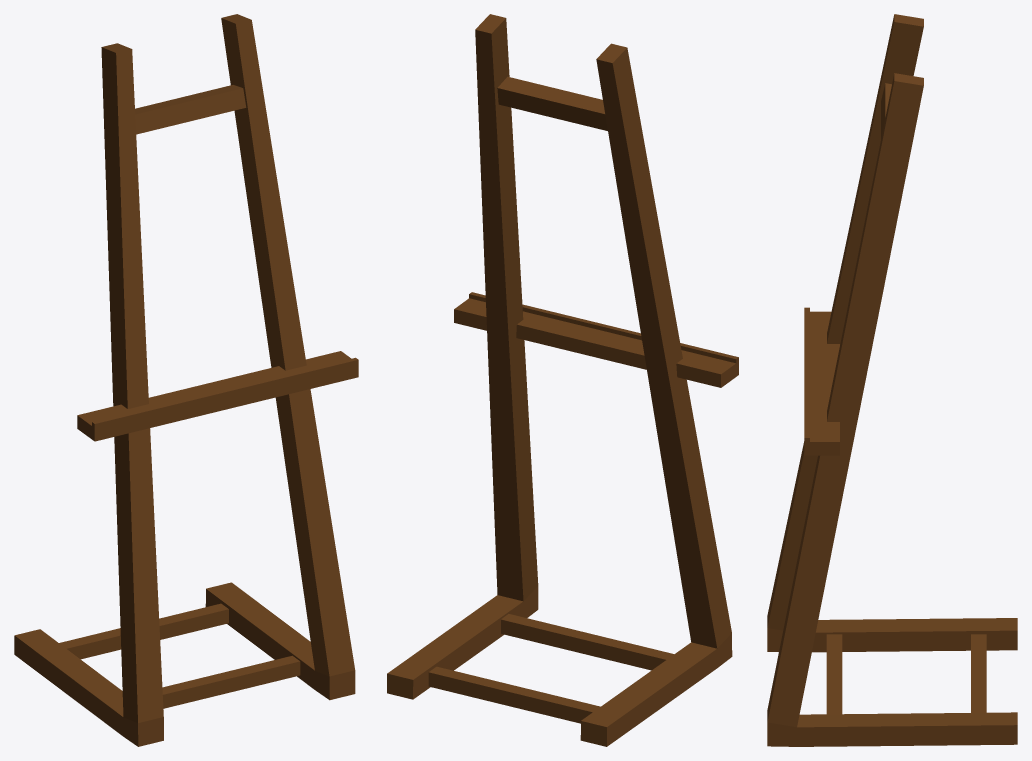
File: easel.fbx
3 views of the same model, side by side, from view 1: azimuth 30°, elevation 25°; view 2: azimuth 150°, elevation 25°; view 3: azimuth 270°, elevation 25° (orthographic).
Visible parts, largest first — view 1: Easel; view 2: Easel; view 3: Easel.
Boxes of the visible parts, <box> form: Easel: <box>14,14,358,746</box>; Easel: <box>387,14,738,746</box>; Easel: <box>767,14,1017,746</box>.
Bounding box in the file's own units: 66.84 × 54.35 × 155.
